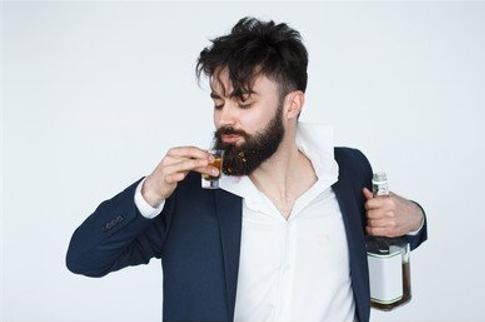Drunk: (207, 67, 282, 165)
